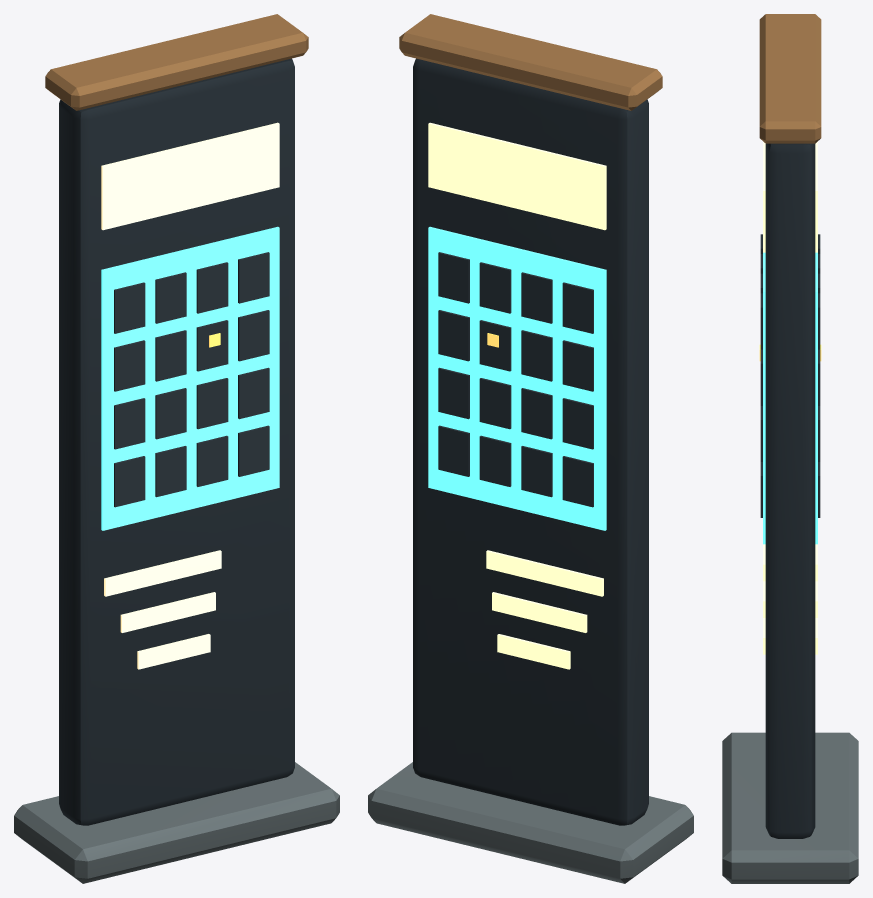
The model's file is info-pylon.lod0.glb.
The picture shows the model from 3 angles, left to right: view 1: azimuth 30°, elevation 25°; view 2: azimuth 150°, elevation 25°; view 3: azimuth 270°, elevation 25°; orthographic projection. The views are drawn at different scales.
Parts seen in each view (by area): view 1: structure; view 2: structure; view 3: structure.
Boxes of the visible parts, box(x1,y1,x2,y2) form: structure: box(14, 14, 339, 883); structure: box(368, 14, 693, 883); structure: box(722, 14, 858, 883).
Bounding box in the file's own units: 0.96 × 2.7 × 0.44.
